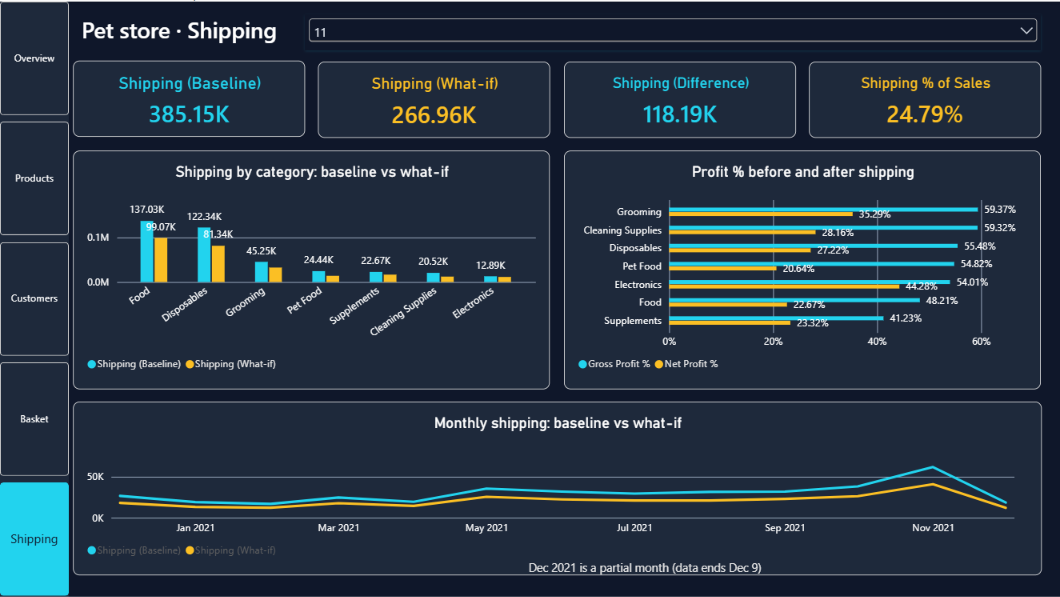

What the dashboard file says about the page in this screenshot:
{"tool":"powerbi","page":{"name":"Shipping","canvas":[1280,720],"ordinal":4},"visuals":[{"type":"textbox","box":[63.6,16.2,304.5,53.7],"z":1000},{"type":"card","title":"Shipping (Baseline)","fields":{"Values":["Sales.Shipping (Baseline)"]},"box":[88,71,280,92],"z":2000},{"type":"card","title":"Shipping (What-if)","fields":{"Values":["Sales.Shipping (What-if)"]},"box":[384,72,280,92],"z":3000},{"type":"card","title":"Shipping (Difference)","fields":{"Values":["Sales.Shipping (Difference)"]},"box":[680,72,280,92],"z":4000},{"type":"card","title":"Shipping % of Sales","fields":{"Values":["Sales.Shipping % of Sales"]},"box":[976,72,280,92],"z":5000},{"type":"clusteredColumnChart","title":"Shipping by category: baseline vs what-if","fields":{"Category":["Products.Category"],"Y":["Sales.Shipping (Baseline)","Sales.Shipping (What-if)"]},"box":[88.1,179.8,575.5,288.3],"z":8000},{"type":"clusteredBarChart","title":"Profit % before and after shipping","fields":{"Category":["Products.Category"],"Y":["Sales.Gross Profit %","Sales.Net Profit %"]},"box":[680.4,179.8,575.5,288.3],"z":8002},{"type":"lineChart","title":"Monthly shipping: baseline vs what-if","fields":{"Category":["Sales.Month"],"Y":["Sales.Shipping (Baseline)","Sales.Shipping (What-if)"]},"box":[87.9,482.6,1168.5,209.8],"z":8003},{"type":"slicer","title":"Product A","fields":{"Values":["What-if quantity.What-if quantity"]},"box":[368,15.7,888.1,43.4],"z":8004},{"type":"textbox","box":[440.7,672.8,675.4,39.3],"z":8005},{"type":"shape","box":[0,0,83,720],"z":8007},{"type":"pageNavigator","box":[0,0,83.2,720.2],"z":8008}]}

Visuals, with their boxes in screenshot pixels (x1, y1, x2, y2), scaled from the page's 1280x720 canvas onto the 1060x597 screenshot:
textbox: crop(53, 13, 305, 58)
"Shipping (Baseline)" card: crop(73, 59, 305, 135)
"Shipping (What-if)" card: crop(318, 60, 550, 136)
"Shipping (Difference)" card: crop(563, 60, 795, 136)
"Shipping % of Sales" card: crop(808, 60, 1040, 136)
"Shipping by category: baseline vs what-if" clusteredColumnChart: crop(73, 149, 550, 388)
"Profit % before and after shipping" clusteredBarChart: crop(563, 149, 1040, 388)
"Monthly shipping: baseline vs what-if" lineChart: crop(73, 400, 1040, 574)
"Product A" slicer: crop(305, 13, 1040, 49)
textbox: crop(365, 558, 924, 590)
shape: crop(0, 0, 69, 596)
pageNavigator: crop(0, 0, 69, 596)
